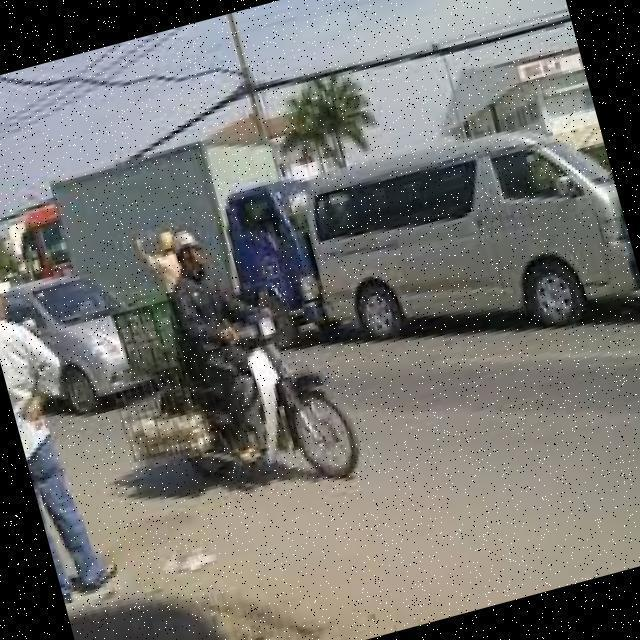accident: (235, 137, 397, 355)
